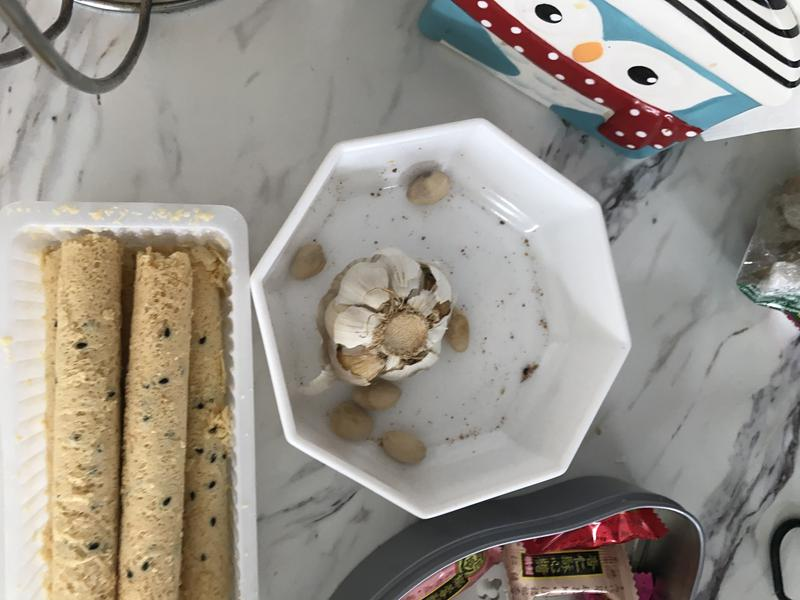garlic: (312, 245, 466, 397)
